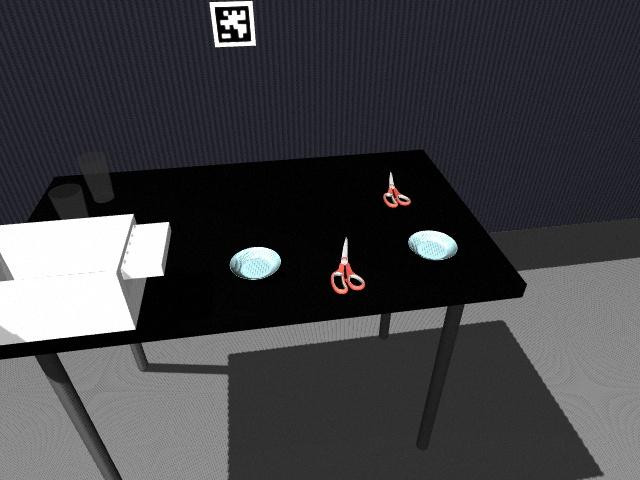cup: (80, 155, 115, 204), (49, 184, 88, 220)
plate: (228, 246, 282, 282), (407, 229, 460, 262)
scissors: (329, 235, 366, 294), (384, 169, 414, 208)
